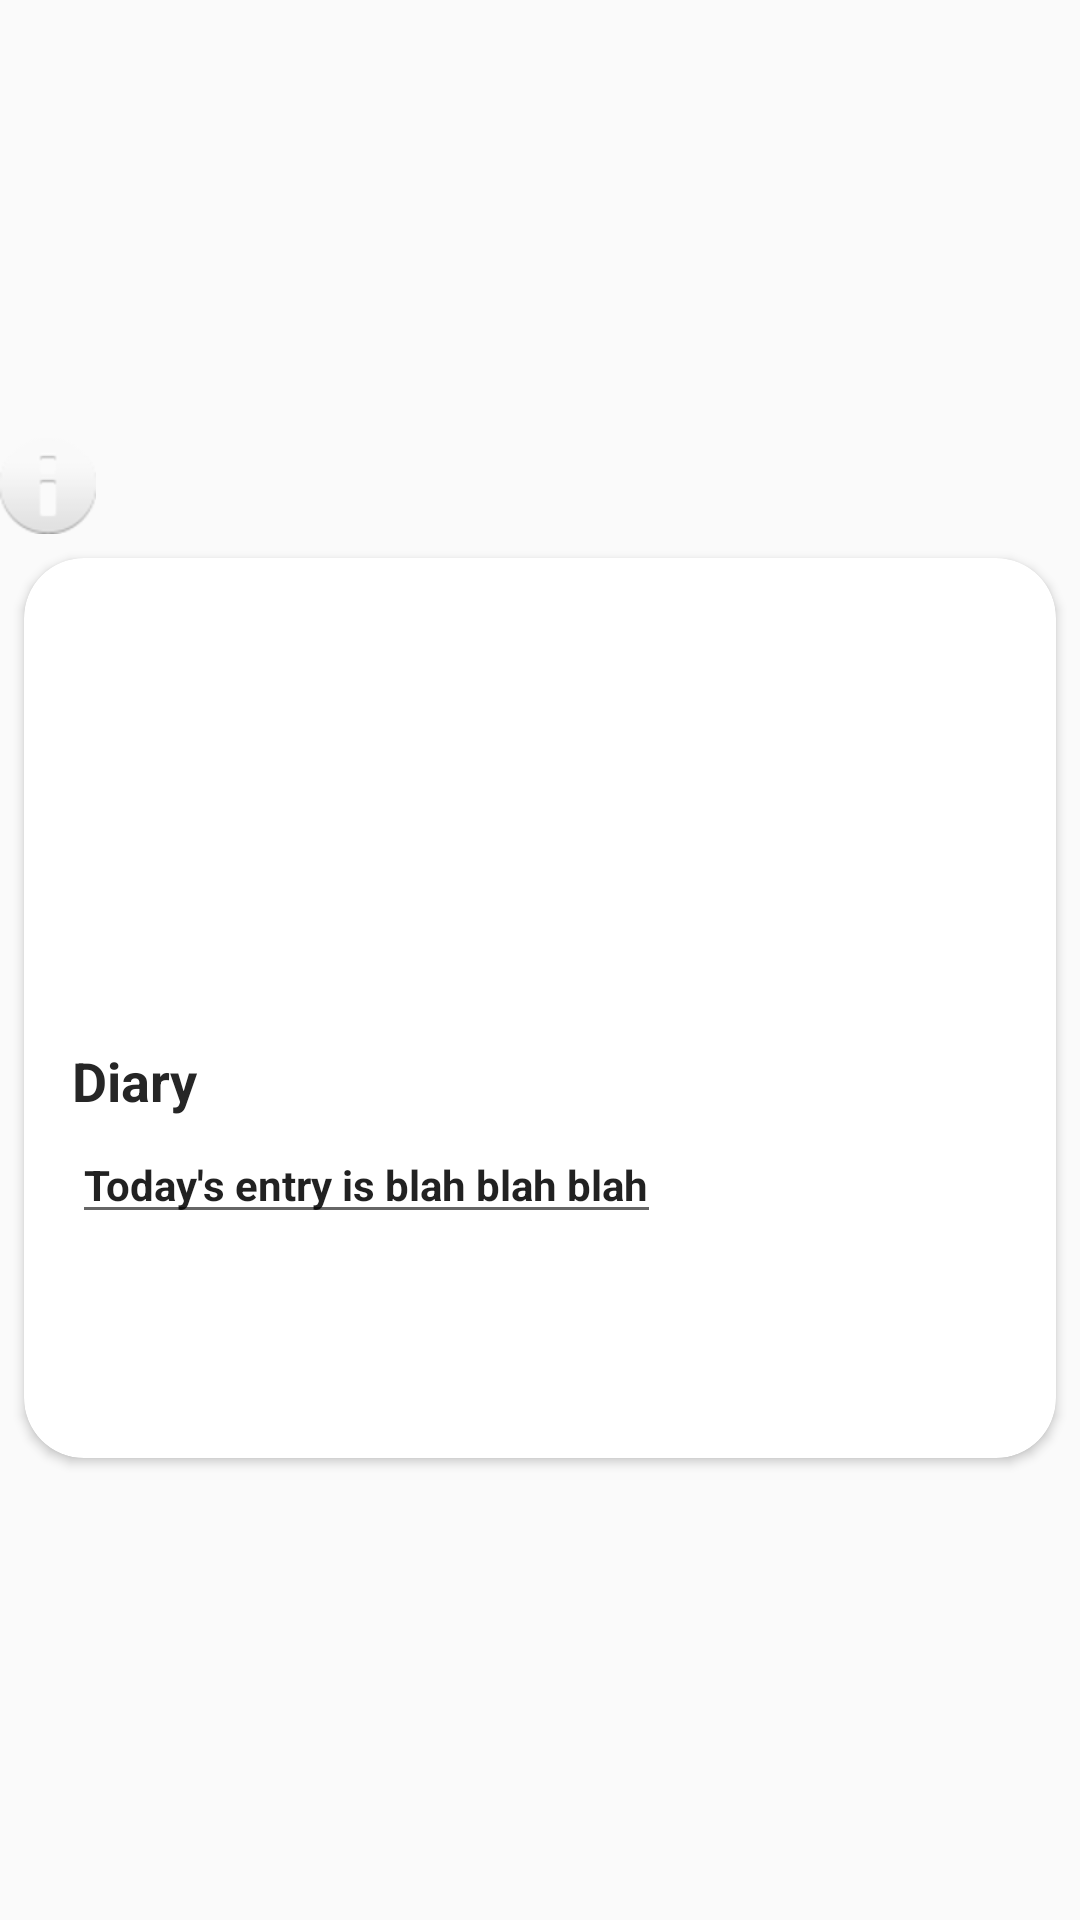

Icons on this 1080 × 1920 Android screen, each with its box as (x1, y1, x2, y2):
info: (0, 456, 96, 534)
